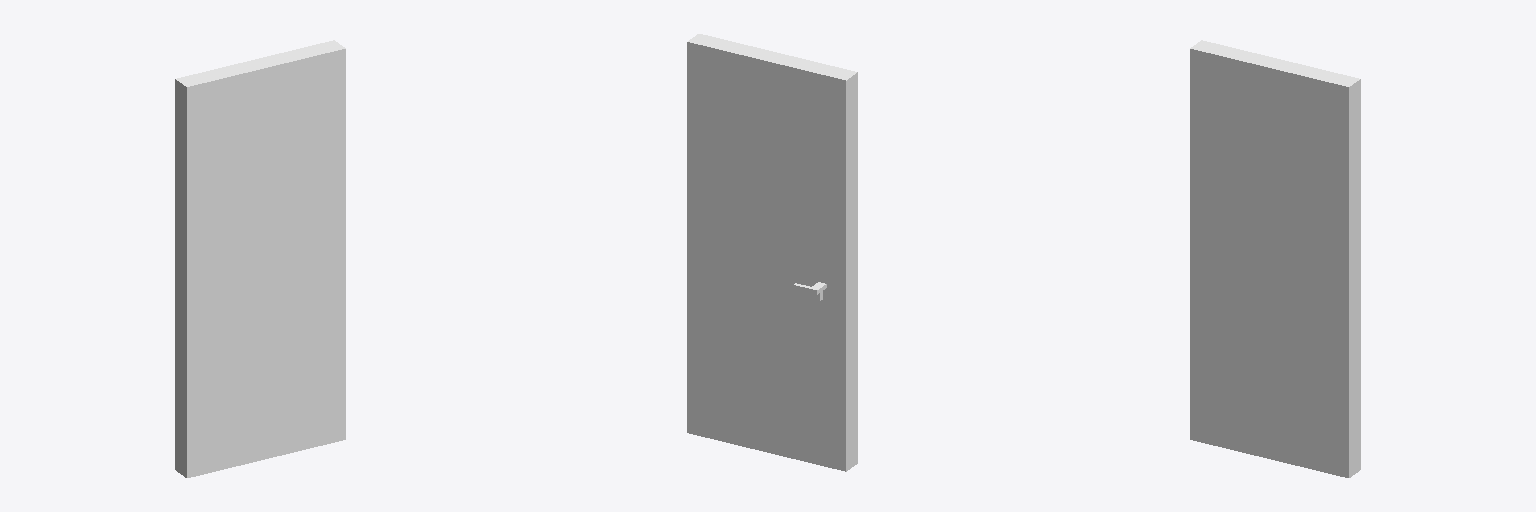
Rendered from GameJam2021Door.obj.
3 renders of one model, left to right at view 1: azimuth 30°, elevation 25°; view 2: azimuth 150°, elevation 25°; view 3: azimuth 330°, elevation 25°, orthographic.
Visible parts, largest first — view 1: object 1; view 2: object 1; view 3: object 1.
Part boxes in pixels (bbox=[...]): object 1: bbox=[175, 40, 345, 477]; object 1: bbox=[687, 34, 857, 471]; object 1: bbox=[1190, 40, 1360, 477].
Bounding box in the file's own units: 4 × 9.4 × 0.9.